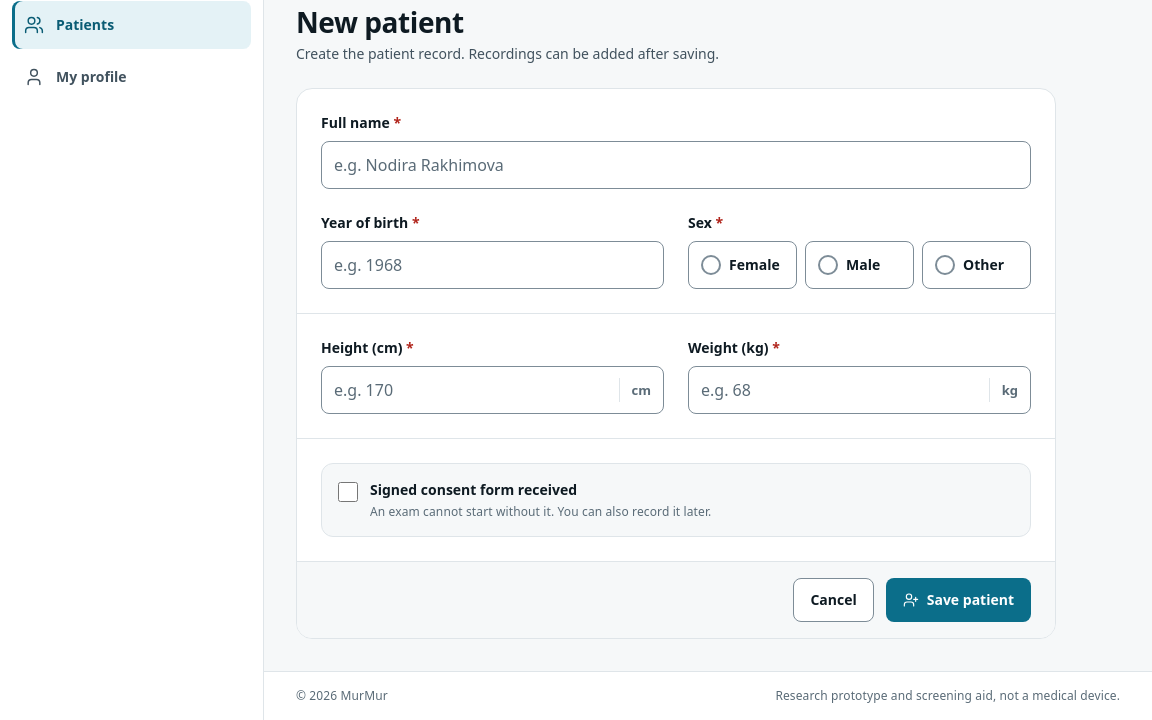
Test: patient form › empty submit: inline errors, focus on the first, nothing sent
(page scrolled)
Click the button "Save patient" at x=958, y=600, box [886,578,1031,622]
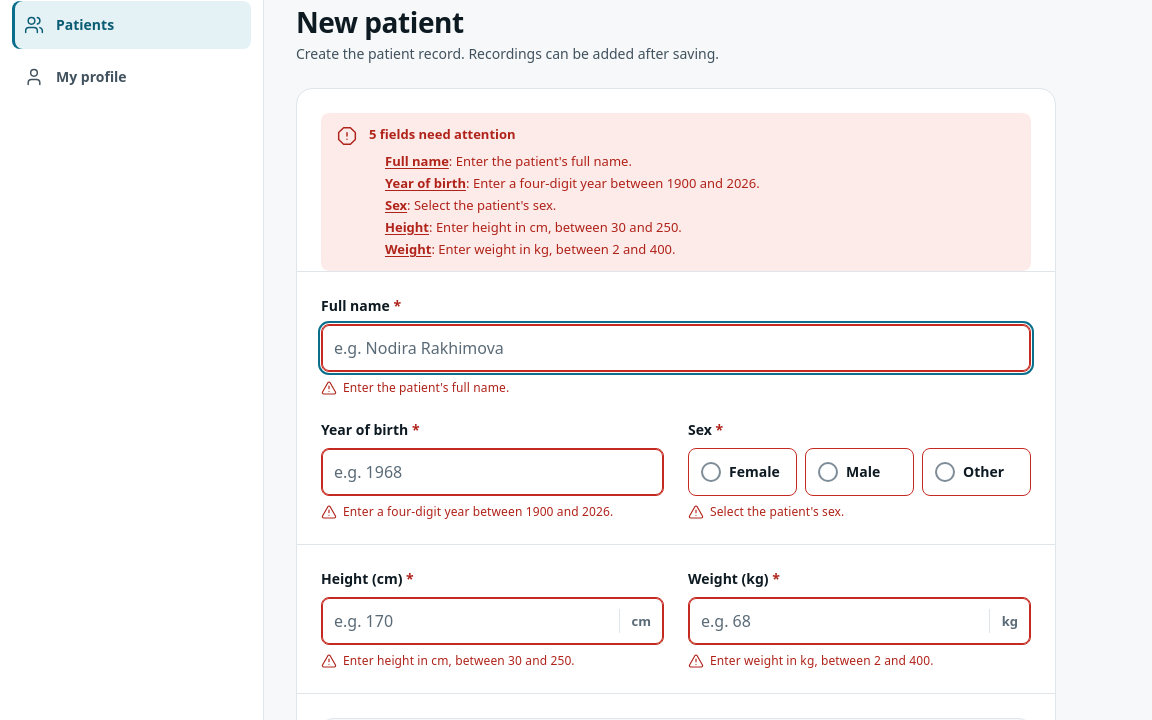
Expected: the message shows "5 fields need attention", [369,125,516,143]
Expected: the text "Enter the patient's full name." is shown, [343,380,509,396]
Expected: the text "Select the patient's sex." is shown, [710,504,844,520]
